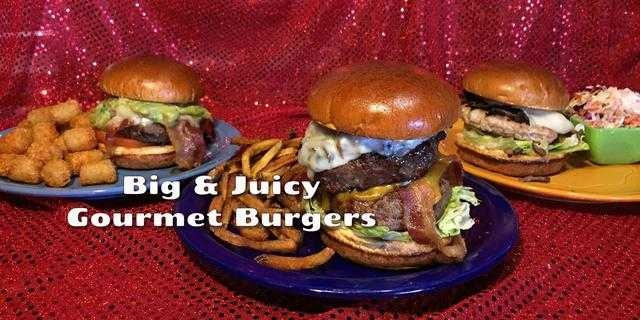hamburger: (303, 73, 479, 254), (460, 67, 574, 175), (96, 61, 194, 161)
